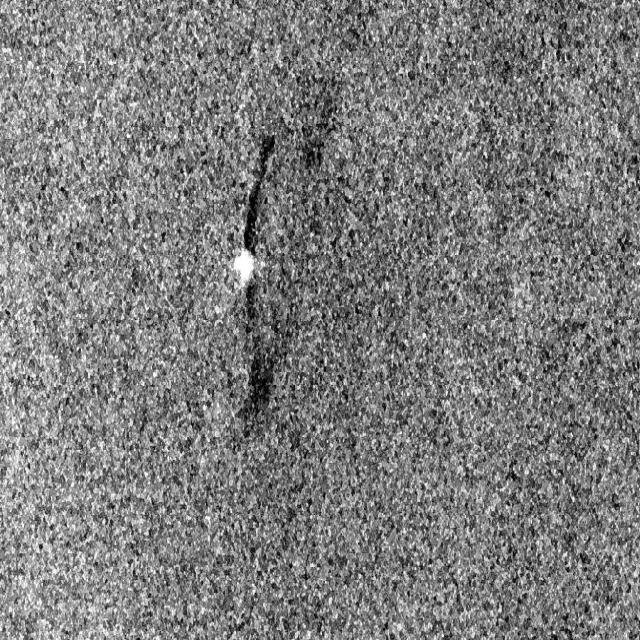oil-spill: (244, 283, 281, 431), (246, 134, 276, 252)
ship: (231, 246, 254, 290)
